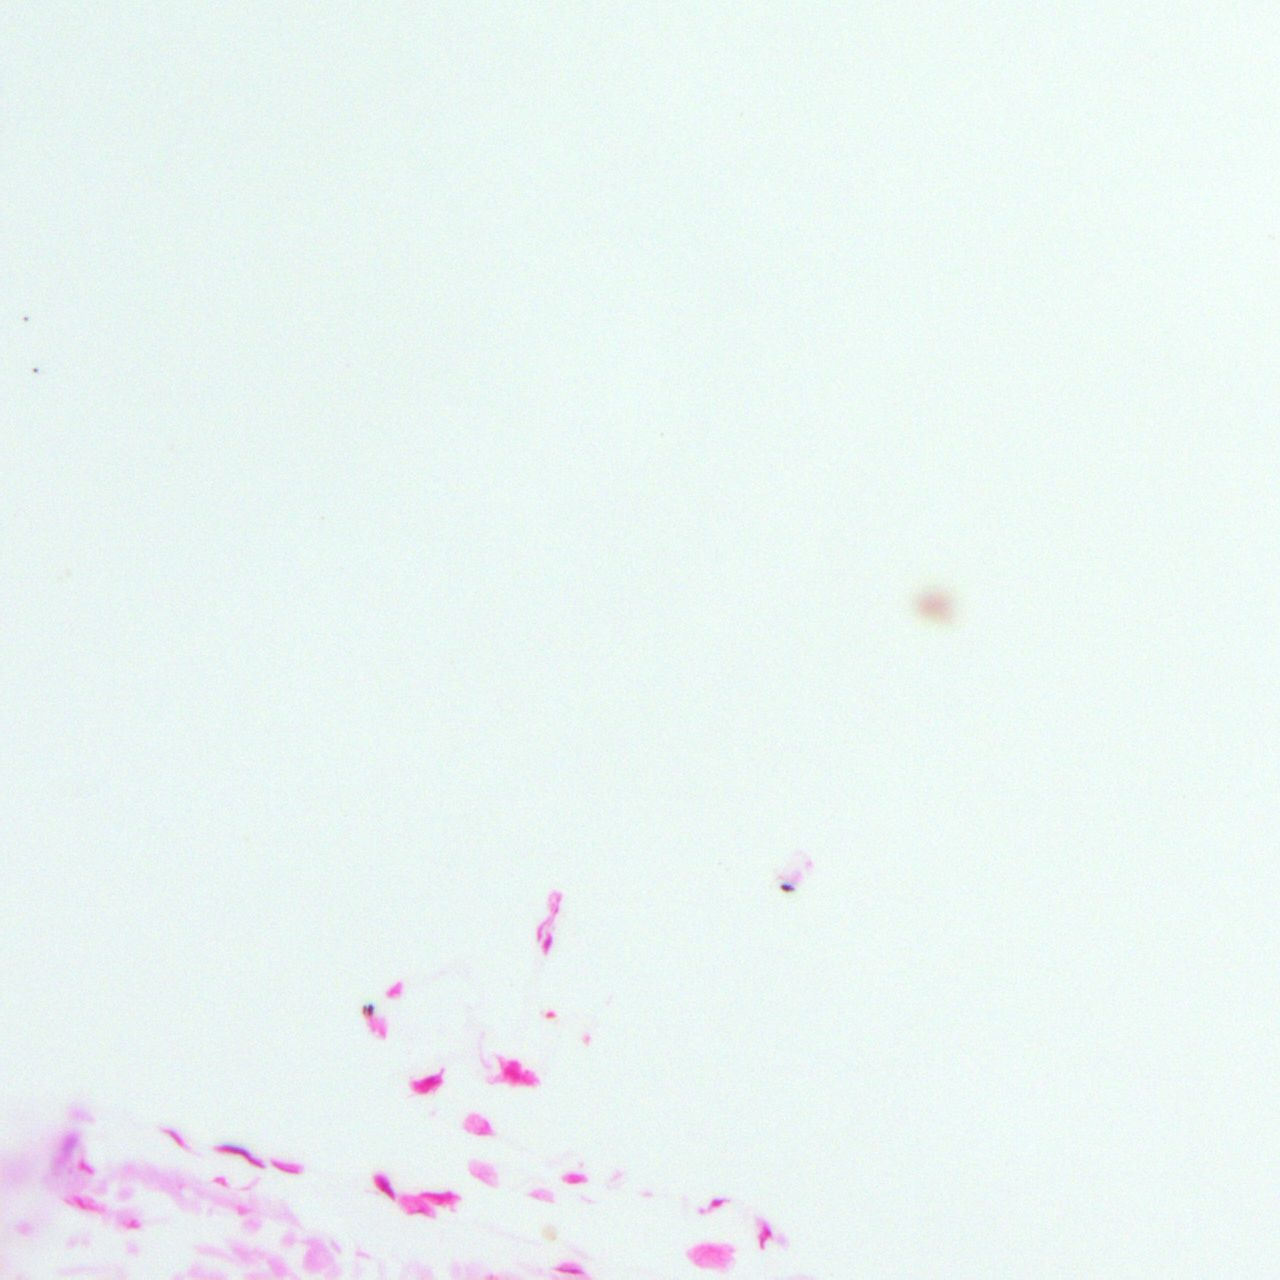dust: (914, 588, 958, 624), (780, 884, 798, 896), (366, 1004, 374, 1017), (32, 365, 41, 373), (21, 315, 30, 323), (361, 1004, 367, 1013)
nucleus-FG: (214, 1140, 268, 1168), (163, 1125, 189, 1150), (412, 1071, 441, 1090), (375, 1174, 396, 1200), (269, 1159, 299, 1177), (416, 1078, 442, 1096), (418, 1191, 457, 1200), (758, 1227, 772, 1249), (502, 1068, 521, 1084), (541, 932, 554, 955), (78, 1159, 95, 1176), (127, 1219, 141, 1230), (406, 1209, 428, 1216), (558, 1268, 582, 1274), (73, 1197, 84, 1208), (710, 1198, 723, 1206), (566, 1178, 583, 1184), (537, 927, 541, 941)
